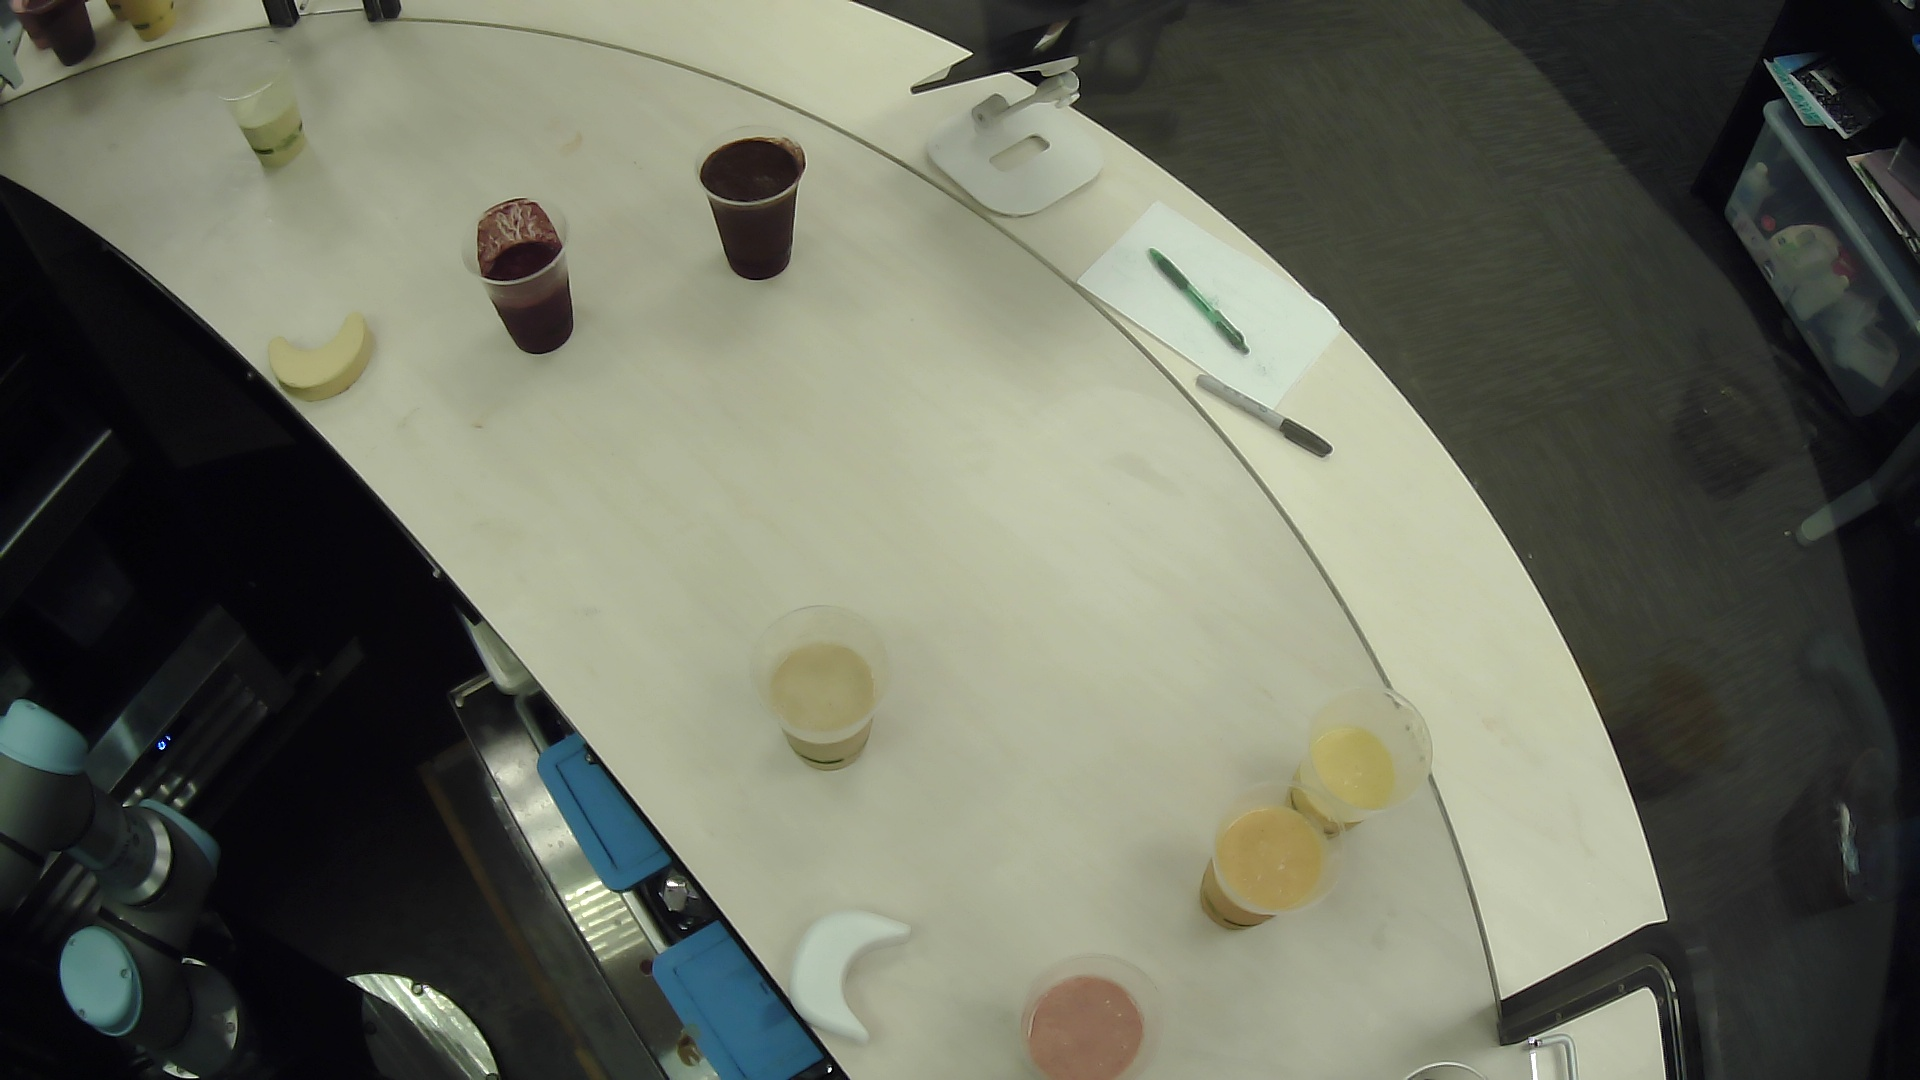Deliver: (758, 873, 953, 1051), (262, 287, 386, 433)
Full_cup: (738, 585, 907, 796), (456, 185, 604, 371), (1294, 670, 1448, 841), (1182, 791, 1348, 944), (1015, 943, 1182, 1080), (691, 116, 810, 305), (190, 38, 331, 185)
